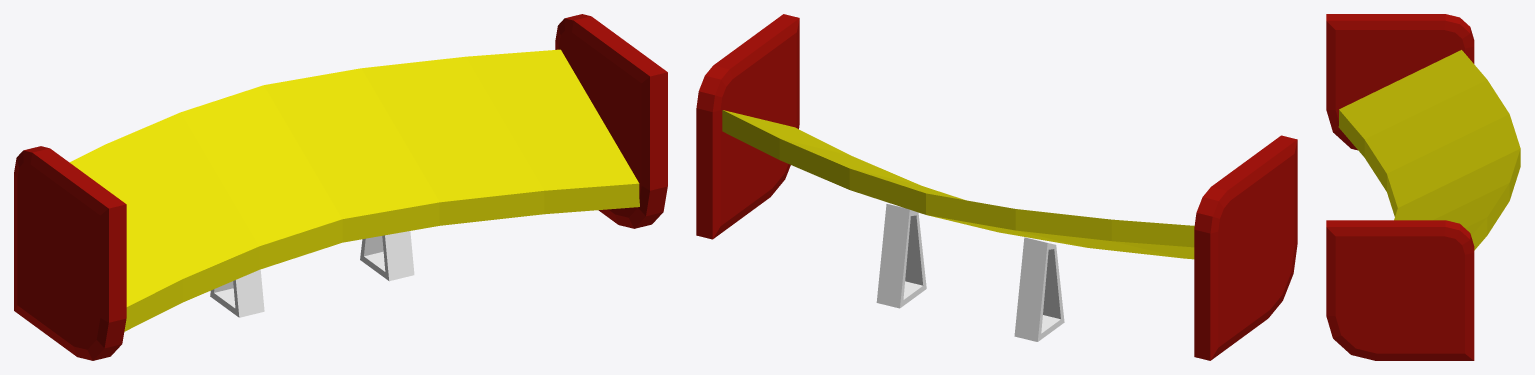
File: WingsKart5.fbx
3 views of the same model, side by side, from view 1: azimuth 30°, elevation 25°; view 2: azimuth 150°, elevation 25°; view 3: azimuth 270°, elevation 25° (orthographic). The views are drawn at different scales.
Parts seen in each view (by area): view 1: WingsKart5; view 2: WingsKart5; view 3: WingsKart5.
Boxes of the visible parts, bbox=[...] form: WingsKart5: bbox=[14, 14, 667, 360]; WingsKart5: bbox=[696, 14, 1297, 360]; WingsKart5: bbox=[1326, 14, 1520, 360].
Size of the model in its own units: 495 by 168 by 189.
